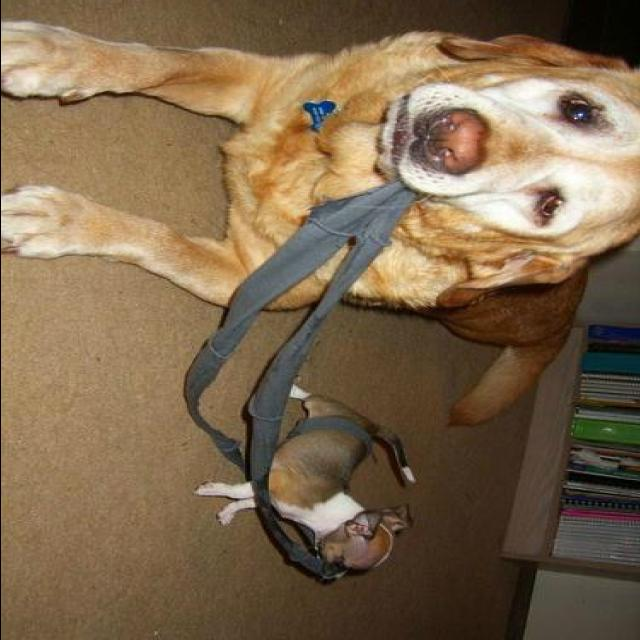chihuahua: (192, 378, 418, 582)
